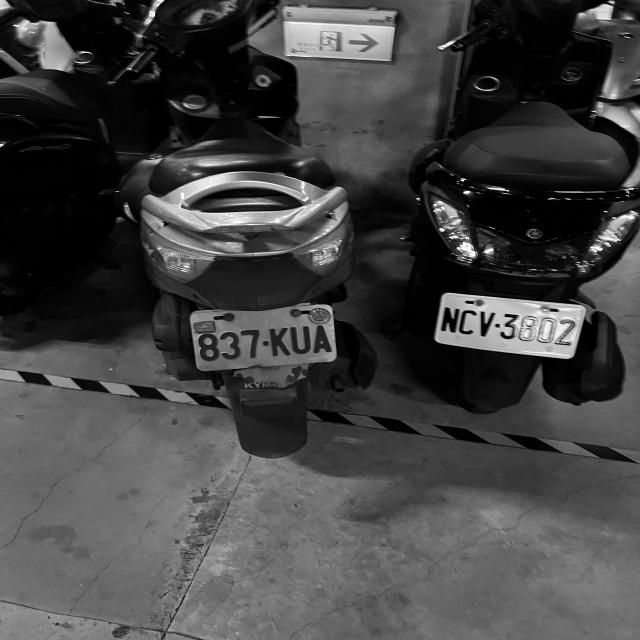-: (262, 339, 270, 346), (494, 322, 502, 328)
0: (535, 316, 560, 346)
2: (552, 318, 578, 348)
3: (219, 330, 241, 361), (499, 312, 522, 341)
7: (240, 328, 262, 359)
8: (517, 313, 541, 343), (198, 331, 220, 362)
A: (314, 325, 332, 354)
C: (457, 308, 479, 336)
K: (270, 328, 290, 358)
N: (438, 306, 461, 334)
U: (290, 325, 312, 353)
V: (476, 310, 498, 339)
plate: (435, 292, 583, 357), (192, 310, 338, 364)
